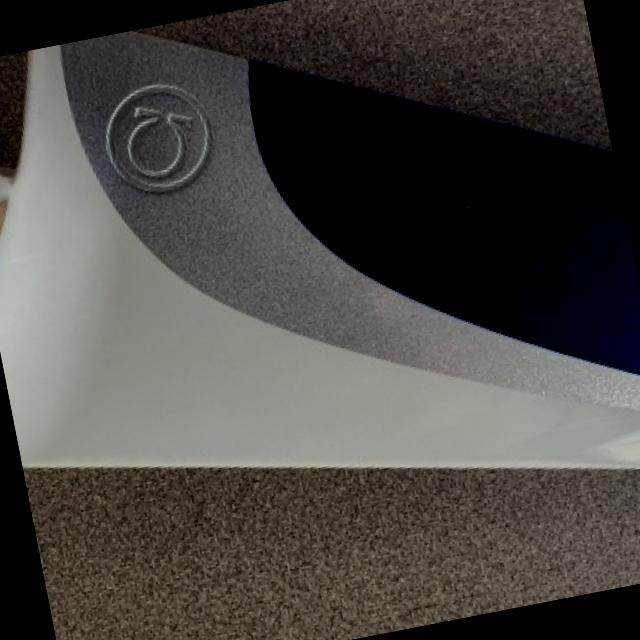healthy: (0, 31, 640, 464)
